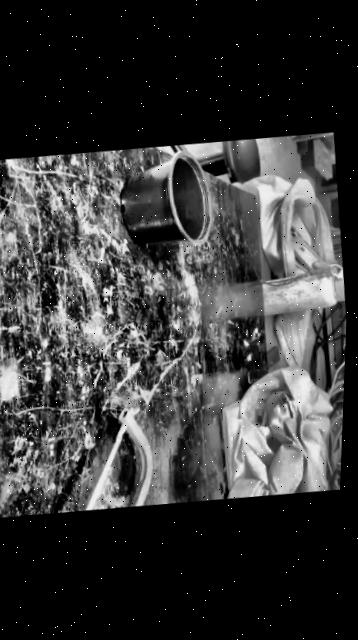pot: (114, 139, 215, 251)
